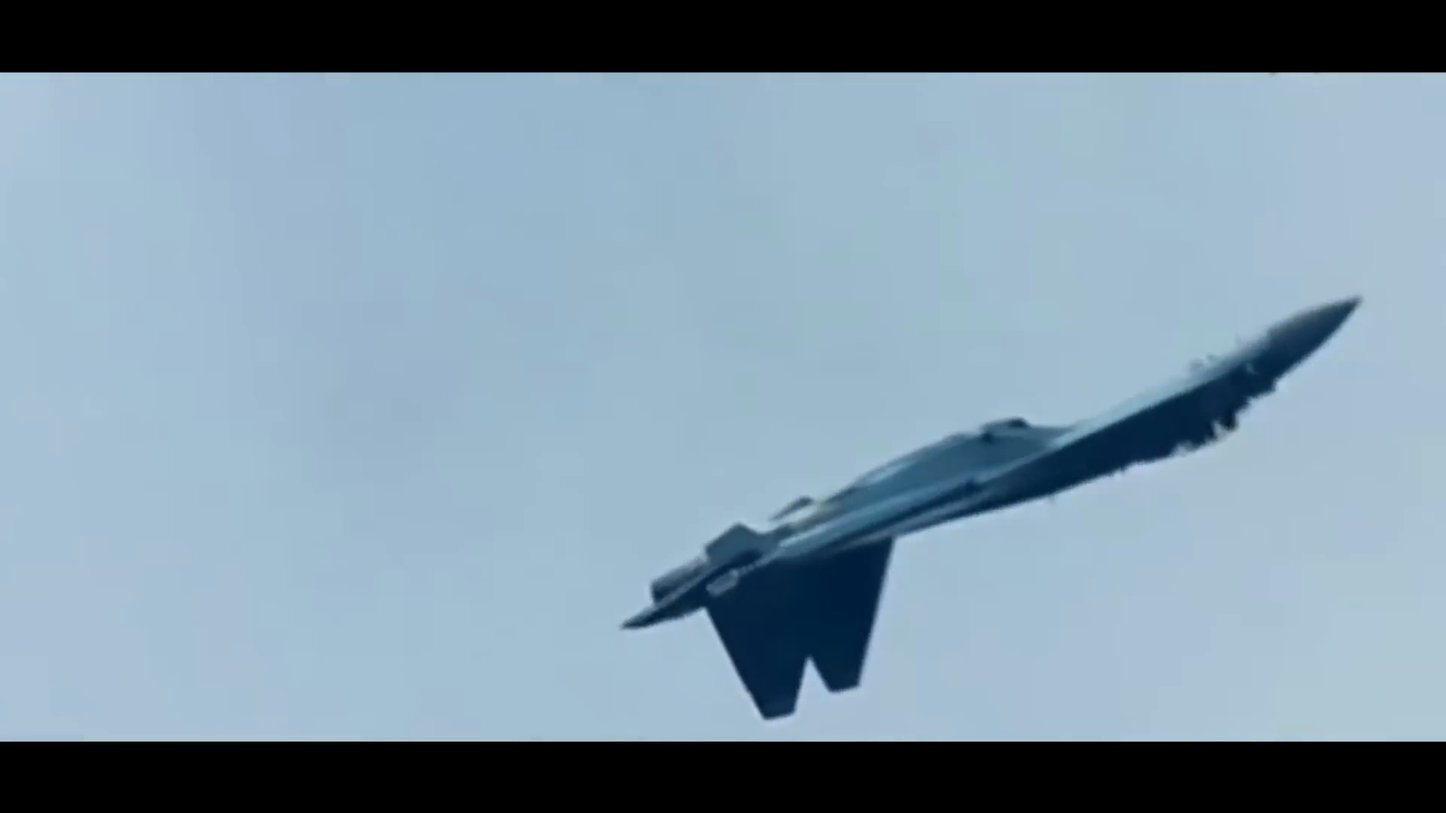Su35: (621, 298, 1359, 719)
